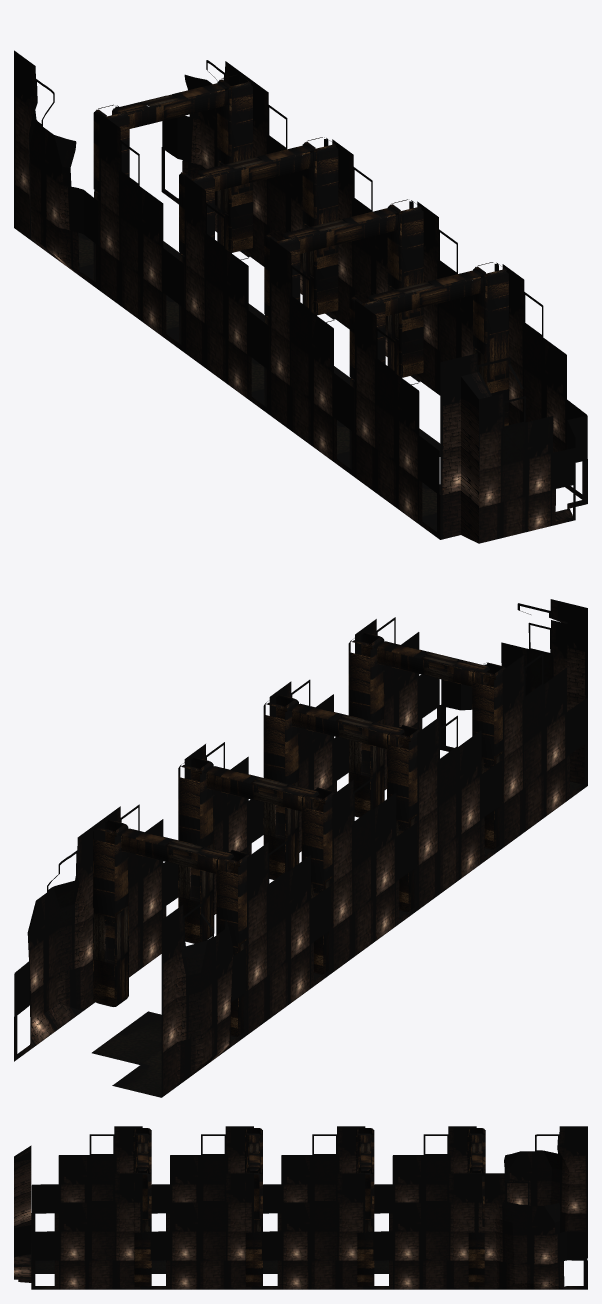
Rendered from Corridor1.fbx.
3 views of the same model, one above another, from view 1: azimuth 30°, elevation 25°; view 2: azimuth 150°, elevation 25°; view 3: azimuth 270°, elevation 25° (orthographic). The views are drawn at different scales.
Parts seen in each view (by area): view 1: Castle_wall01, Castle_Viga01, Castle_floor01; view 2: Castle_wall01, Castle_Viga01, Castle_floor01; view 3: Castle_wall01, Castle_Viga01, Castle_floor01.
Boxes of the visible parts, x1,y1,x2,y2 form: Castle_wall01: (14, 50, 587, 543); Castle_Viga01: (93, 74, 508, 469); Castle_floor01: (78, 232, 440, 531); Castle_wall01: (14, 599, 587, 1097); Castle_Viga01: (93, 632, 505, 1037); Castle_floor01: (92, 781, 581, 1097); Castle_wall01: (14, 1126, 587, 1289); Castle_Viga01: (133, 1128, 485, 1286); Castle_floor01: (31, 1242, 587, 1273).
Size of the model in its own units: 232 by 230 by 1031.
